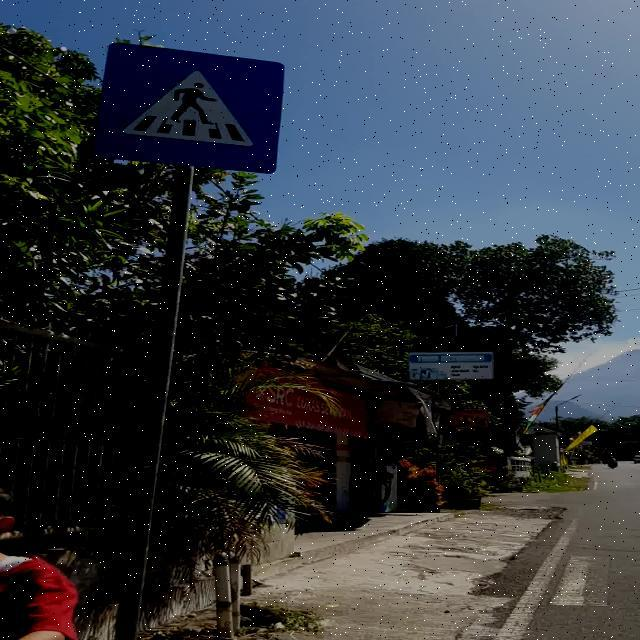Perintah Jalur Penyebrangan: (91, 42, 285, 174)
